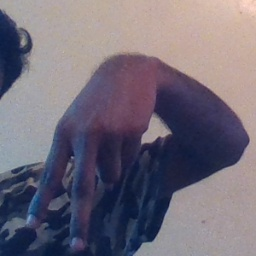Y: (28, 54, 156, 252)
